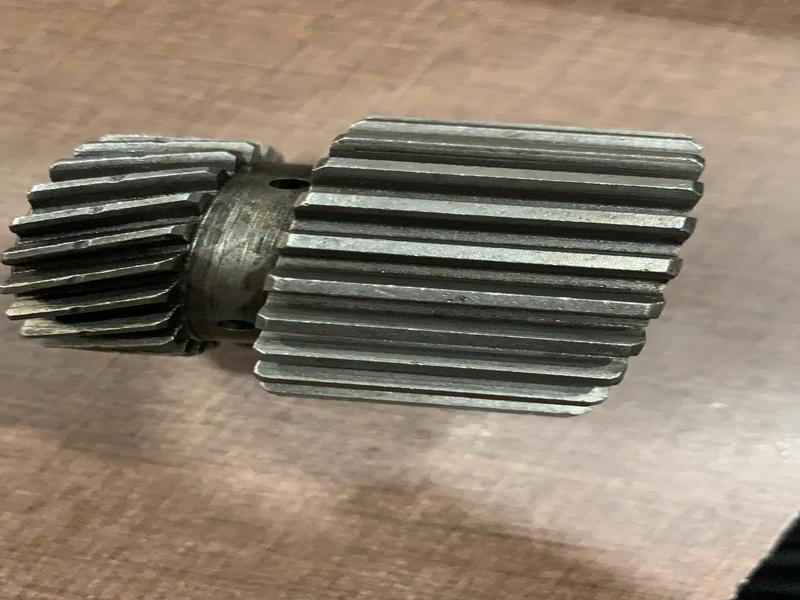engine gear ape: (43, 104, 714, 412)
